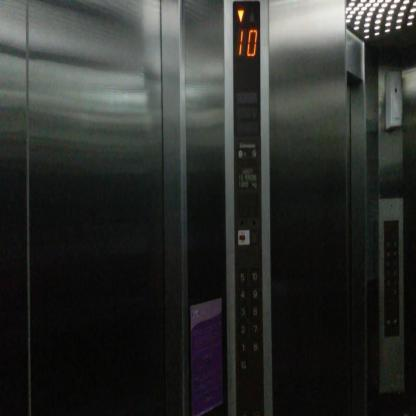1: (238, 340, 248, 354)
10: (249, 268, 260, 283)
2: (238, 322, 248, 335)
3: (238, 303, 248, 317)
4: (238, 286, 247, 300)
5: (236, 268, 248, 284)
6: (250, 340, 260, 353)
7: (250, 322, 260, 335)
8: (250, 304, 260, 318)
9: (249, 285, 260, 300)
G: (238, 358, 248, 372)
alarm: (250, 228, 258, 245)
led: (231, 0, 261, 68)
switch: (237, 228, 250, 245)
